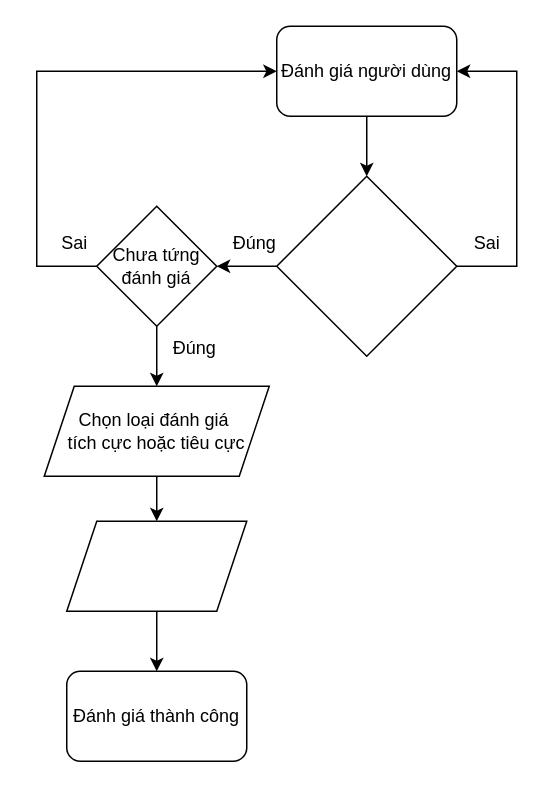
This 555x788 diagram has some shape labels left out. Here are the shapes that lost their labels. From the top down, the centre of each, then its label:
(366,265): Người được đánh giá khác người hiện tại
(156,565): Nhập nội dung đánh giá
